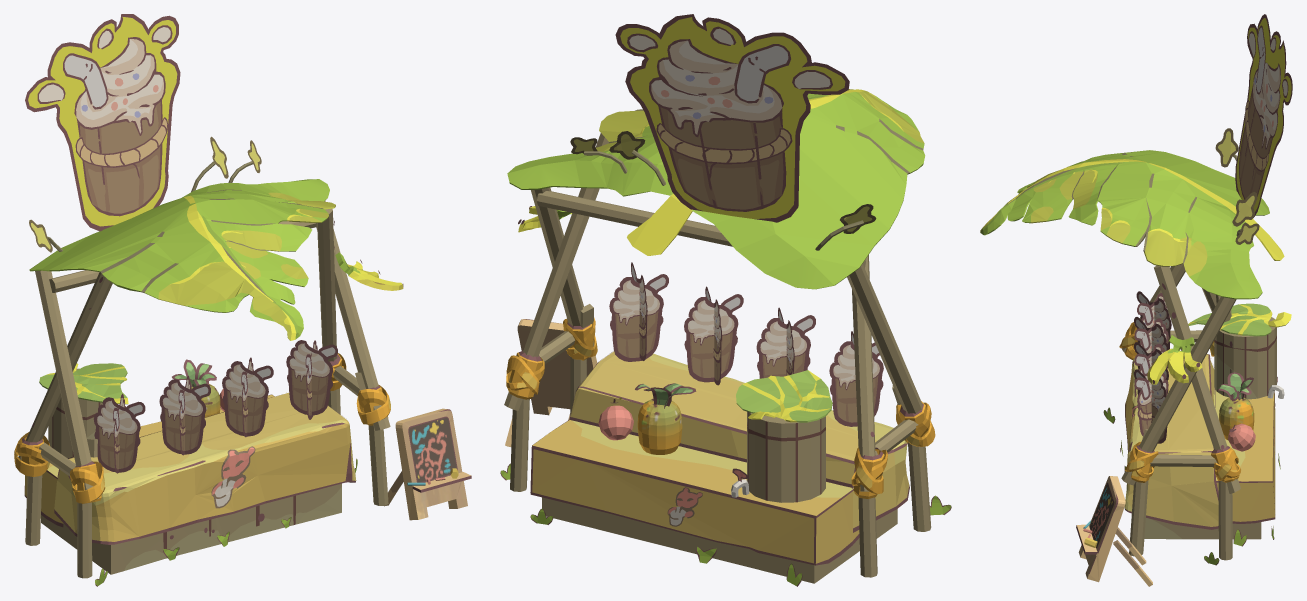
The model's file is Mesh_Home_RF_BubbleTeaShop_SM.fbx.
3 renders of one model, left to right at view 1: azimuth 30°, elevation 25°; view 2: azimuth 150°, elevation 25°; view 3: azimuth 270°, elevation 25°, orthographic. The views are drawn at different scales.
Visible parts, largest first — view 1: Mesh_Home_RF_BubbleTeaShop; view 2: Mesh_Home_RF_BubbleTeaShop; view 3: Mesh_Home_RF_BubbleTeaShop.
Part boxes in pixels (bbox=[...]): Mesh_Home_RF_BubbleTeaShop: bbox=[14, 14, 471, 586]; Mesh_Home_RF_BubbleTeaShop: bbox=[500, 14, 951, 586]; Mesh_Home_RF_BubbleTeaShop: bbox=[980, 14, 1292, 586].
Bounding box in the file's own units: 204 × 251 × 161.
Materials: 1 (1 with a texture image).
